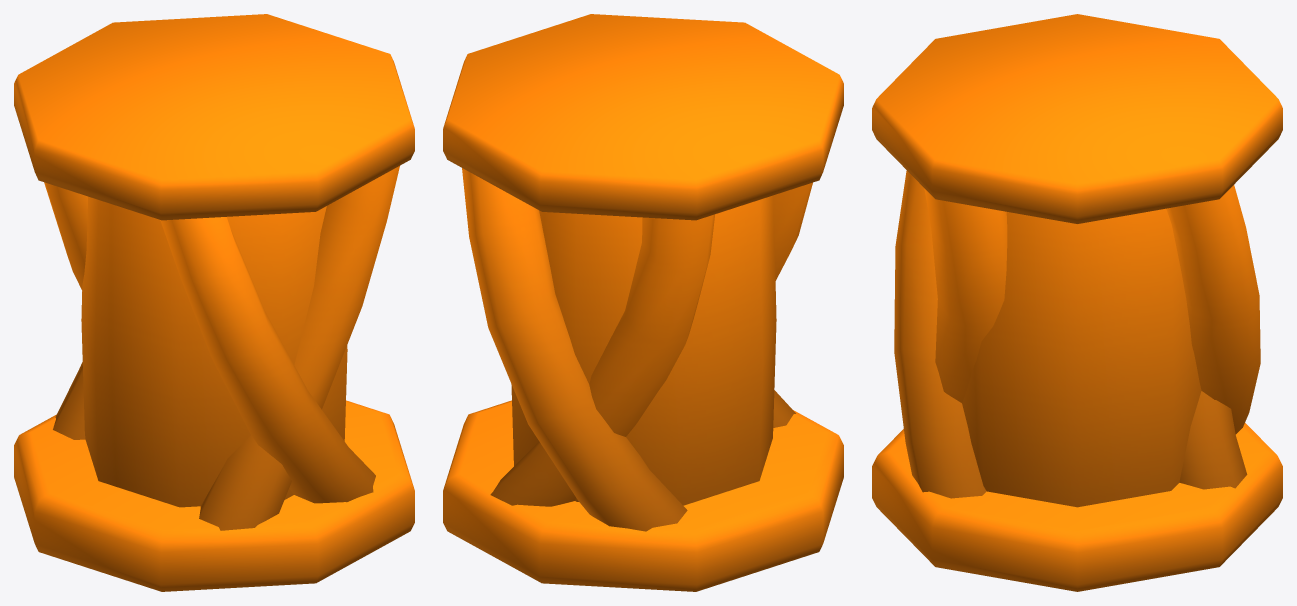
Rendered from bronze_grip_099.glb.
3 renders of one model, left to right at view 1: azimuth 30°, elevation 25°; view 2: azimuth 150°, elevation 25°; view 3: azimuth 270°, elevation 25°, orthographic.
Parts seen in each view (by area): view 1: bronze_grip_099; view 2: bronze_grip_099; view 3: bronze_grip_099.
Boxes of the visible parts, box(x1,y1,x2,y2) form: bronze_grip_099: box(14, 14, 414, 591); bronze_grip_099: box(443, 14, 843, 591); bronze_grip_099: box(872, 14, 1282, 591).
Bounding box in the file's own units: 2.89 × 3.2 × 2.89.
Materials: 1 (1 with a texture image).
